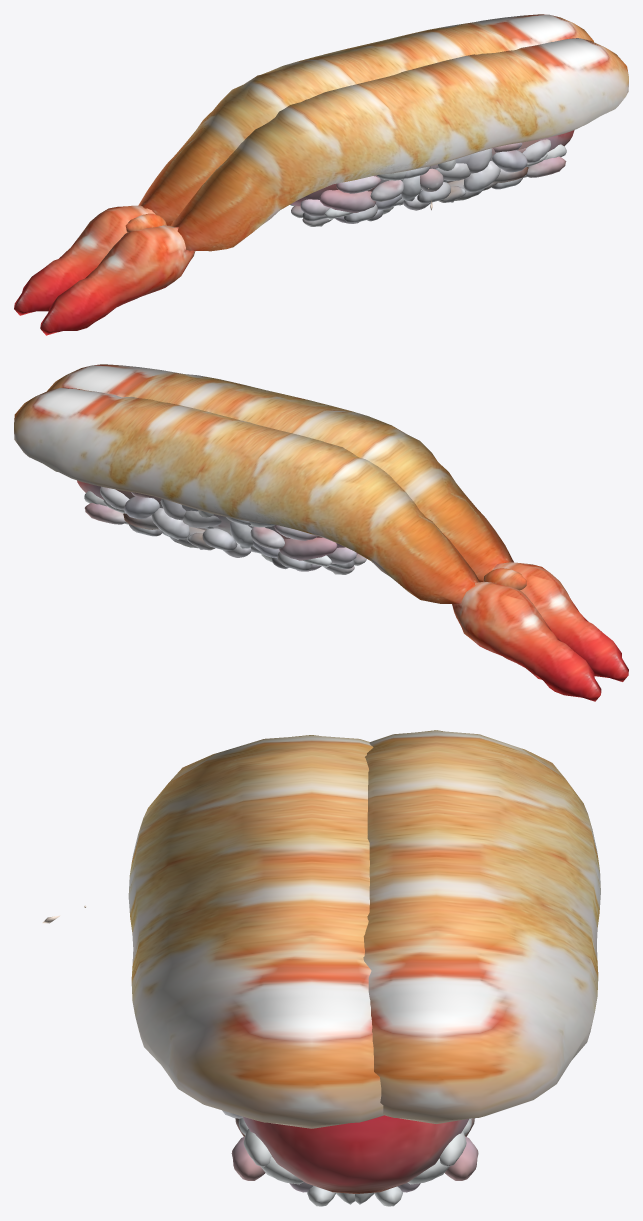
Rendered from sushi-ebi.obj.
3 views of the same model, one above another, from view 1: azimuth 30°, elevation 25°; view 2: azimuth 150°, elevation 25°; view 3: azimuth 270°, elevation 25° (orthographic). The views are drawn at different scales.
Parts seen in each view (by area): view 1: model_190251834805; view 2: model_190251834805; view 3: model_190251834805.
Boxes of the visible parts, box(x1,y1,x2,y2) form: model_190251834805: box(14, 14, 628, 335); model_190251834805: box(14, 364, 628, 701); model_190251834805: box(42, 730, 600, 1206).
Bounding box in the file's own units: 1.36 × 0.4008 × 0.5771.
